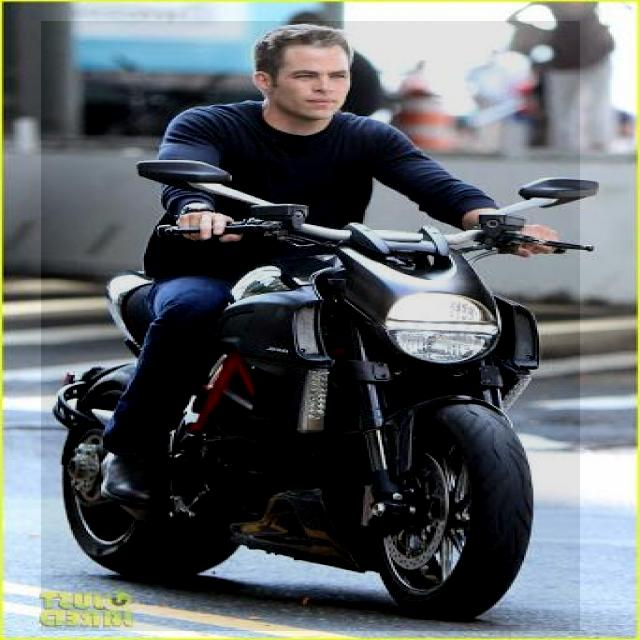Bike: (41, 21, 580, 631)
